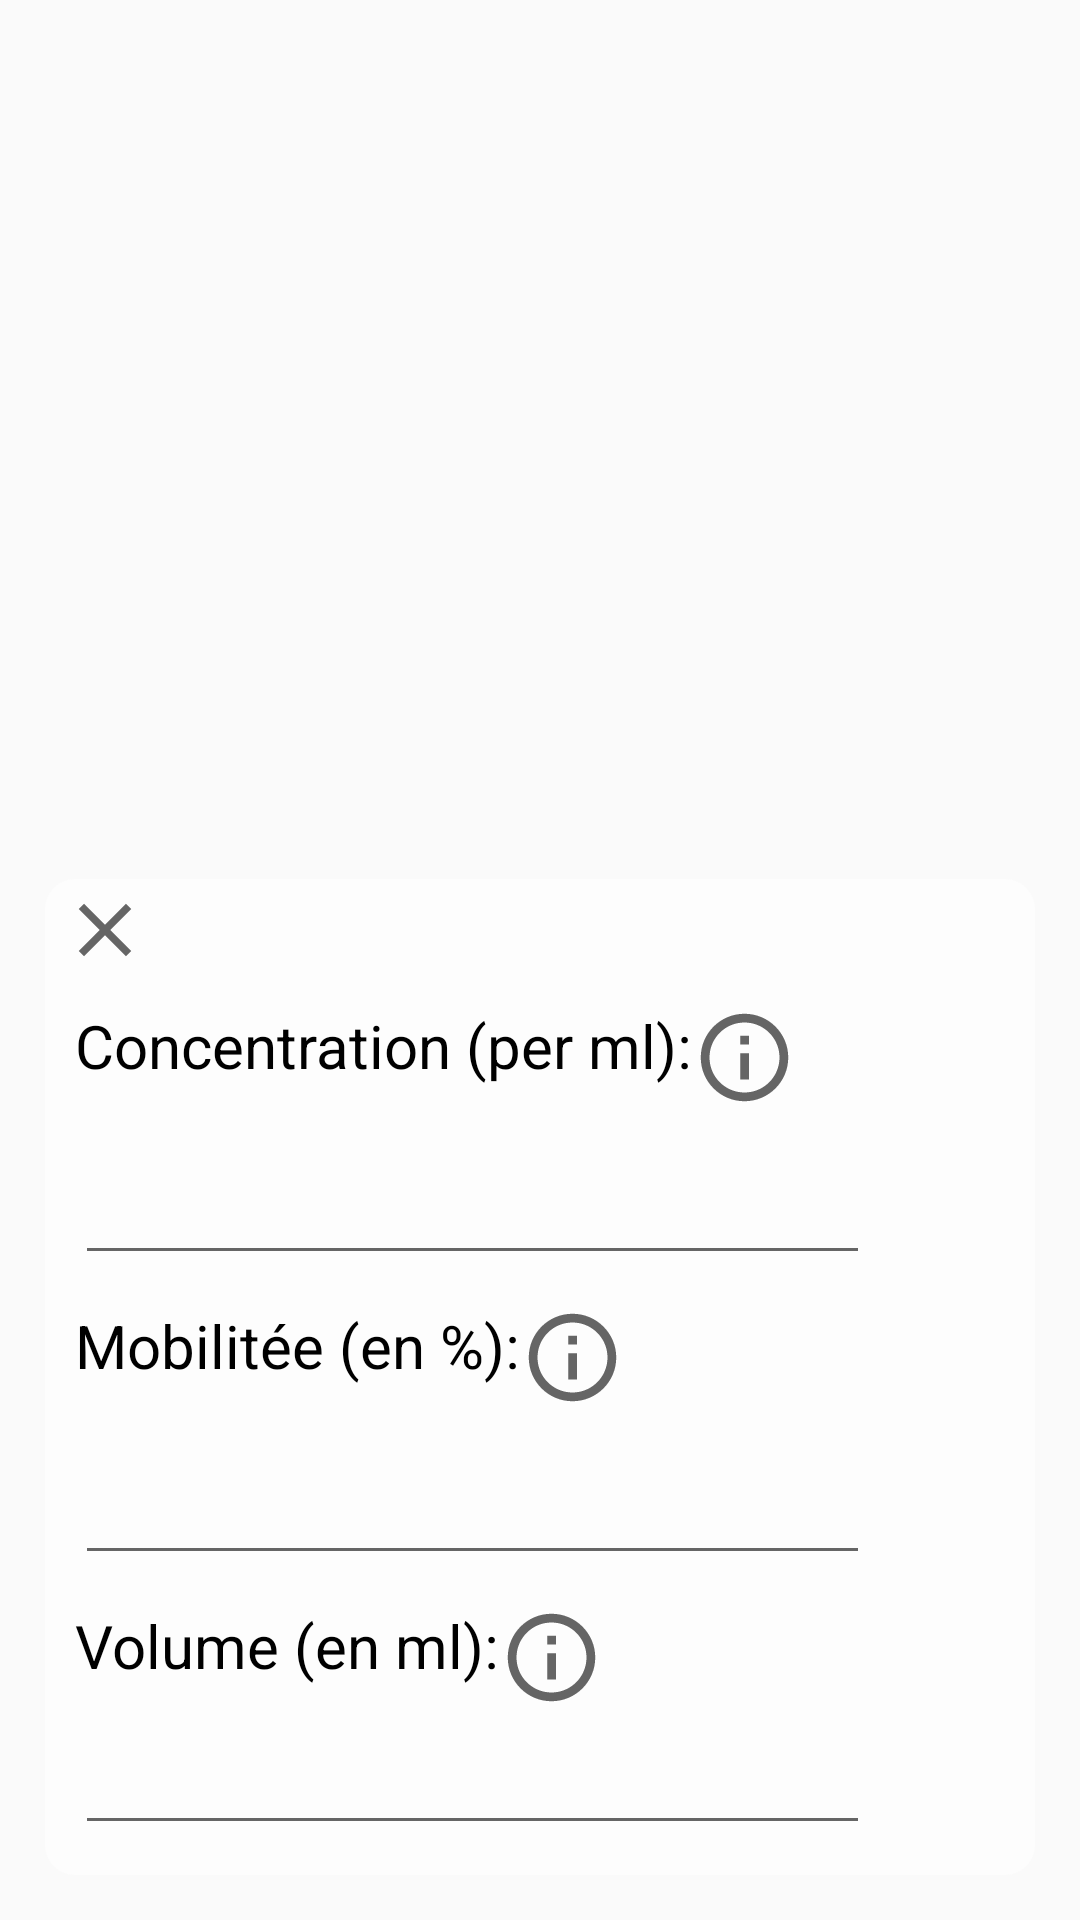

Named icons in this screenshot (1080px×1920px) and their bounding boxes, (x1, y1, x2, y2):
close icon: (79, 904, 131, 956)
